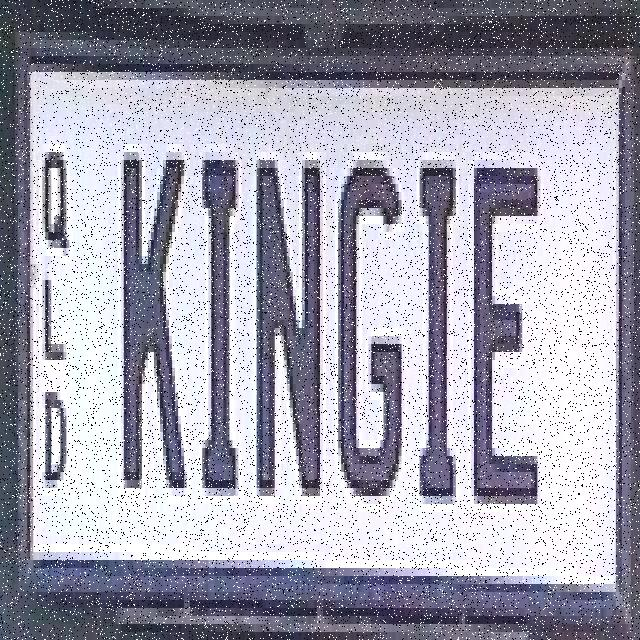licenseplate: (5, 19, 634, 624)
